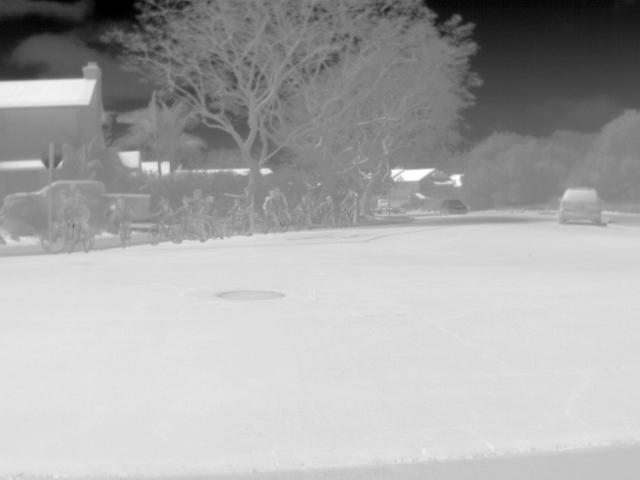car: (54, 178, 150, 233), (1, 184, 47, 223), (557, 188, 602, 224), (437, 197, 467, 214)
person: (67, 186, 96, 237), (105, 193, 135, 240), (49, 186, 71, 230), (155, 196, 176, 235), (338, 187, 359, 225), (234, 184, 258, 214), (266, 186, 286, 214), (188, 188, 205, 214), (294, 193, 312, 215), (319, 193, 335, 216), (205, 192, 218, 220)
